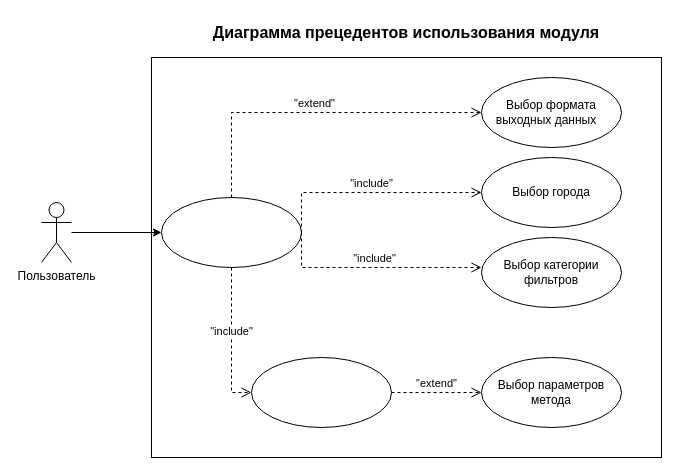
Image size: 679x475. Some labels were removed from this diagram. Each missing label, with the centre of its shape:
"Выбор метода расчёта" goes at (x=321, y=392).
"Запуск приложения с модулем" goes at (x=231, y=232).
